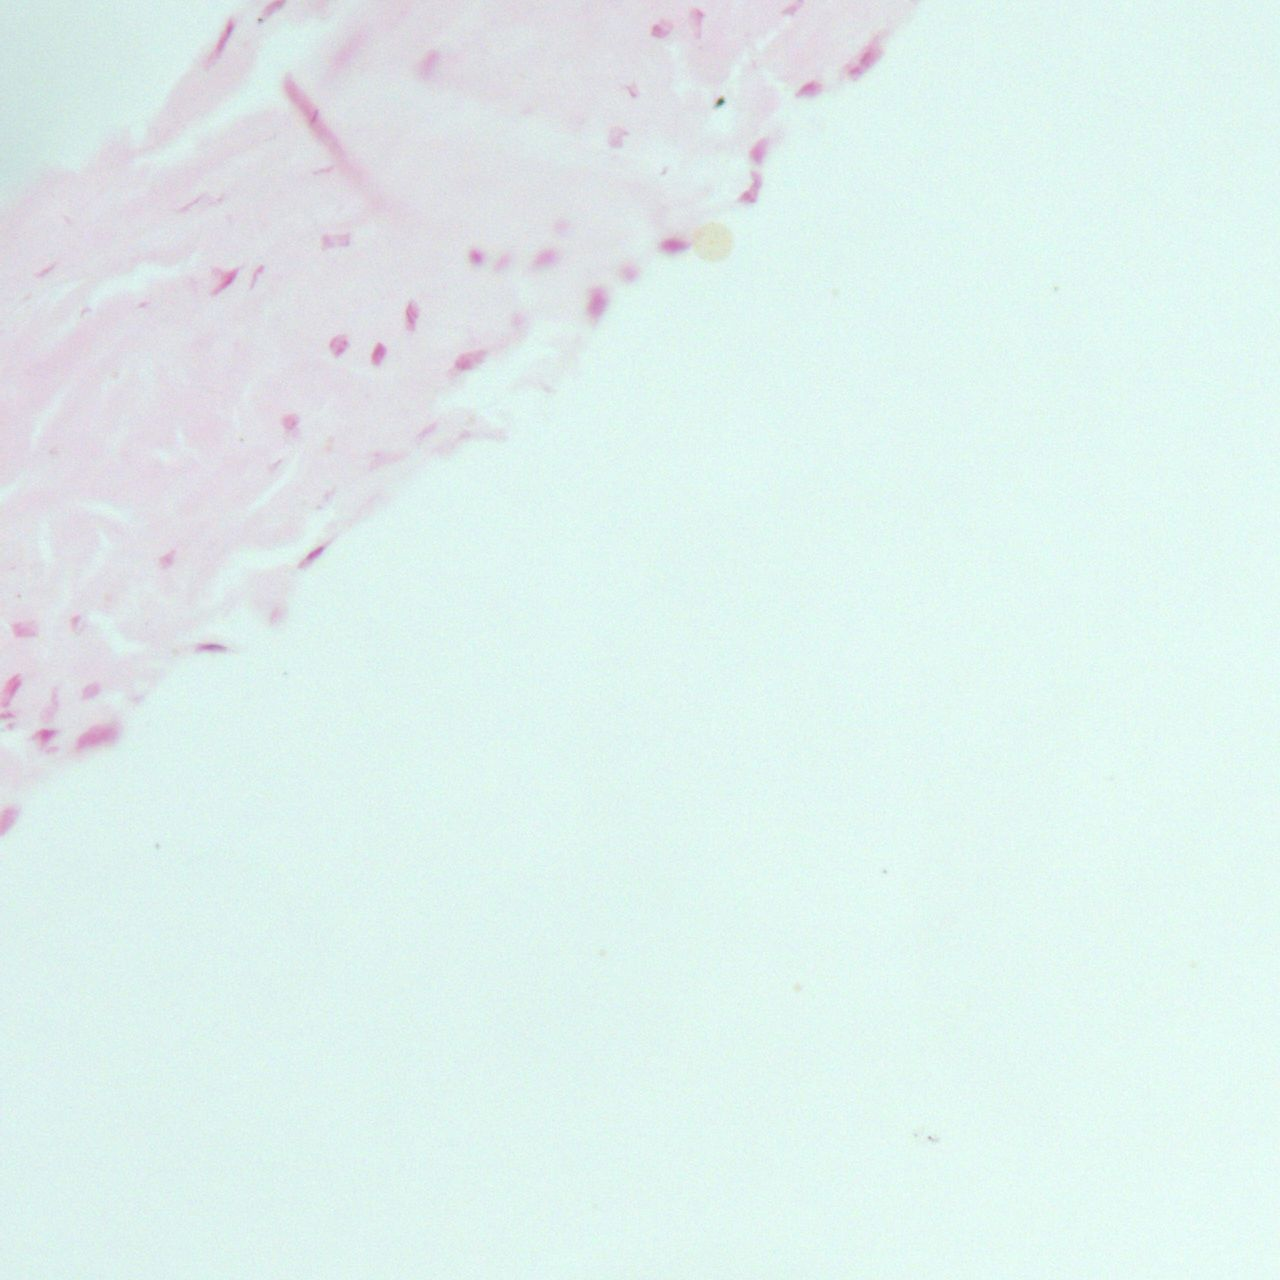dust: (926, 1135, 935, 1145), (152, 844, 159, 853), (256, 18, 264, 23)
nucleus-AC: (72, 716, 123, 754), (206, 16, 239, 64), (736, 166, 767, 207), (451, 346, 486, 377), (210, 265, 241, 298), (855, 38, 886, 70), (0, 670, 27, 708), (298, 540, 328, 570), (40, 688, 64, 723), (587, 286, 610, 324), (527, 246, 558, 272), (794, 77, 823, 103), (415, 49, 441, 79), (243, 263, 268, 291), (366, 340, 389, 369), (658, 237, 692, 256), (155, 547, 179, 572), (79, 678, 104, 701), (0, 806, 19, 835), (34, 260, 61, 279), (749, 137, 768, 163), (321, 233, 353, 248), (329, 334, 350, 356), (417, 418, 440, 440), (779, 0, 801, 21), (692, 9, 704, 41), (280, 413, 300, 433), (11, 622, 38, 636), (406, 301, 418, 331), (610, 127, 626, 149), (195, 642, 229, 653), (467, 247, 485, 265), (495, 254, 512, 273), (619, 263, 636, 281), (36, 728, 56, 744), (847, 66, 865, 83), (651, 25, 670, 38), (270, 455, 285, 470), (72, 614, 82, 632), (626, 84, 639, 98), (137, 300, 150, 308), (0, 712, 14, 719), (6, 722, 15, 730)
